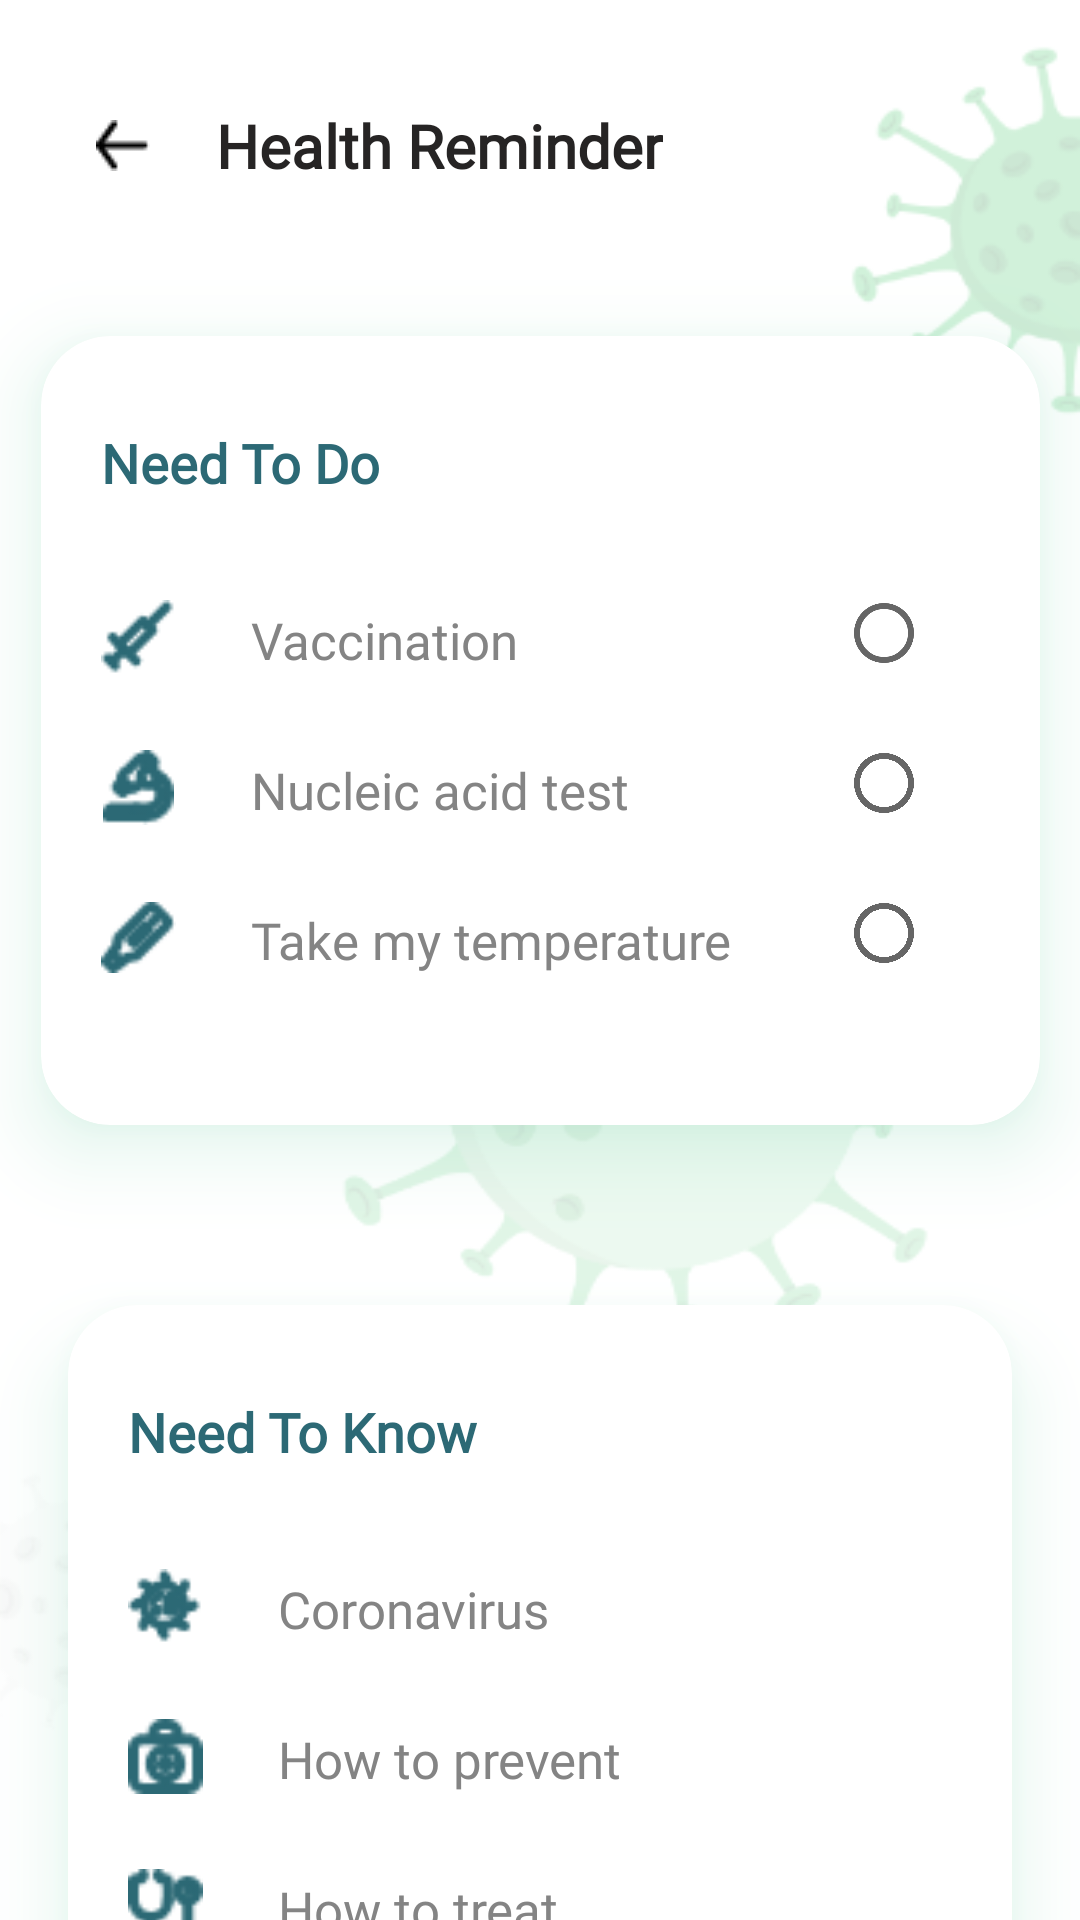

Icons on this 1080×1920 Android screen, each with the point to tap as (x,y):
back: (122,145)
microscope: (138,787)
yimiao: (137,636)
